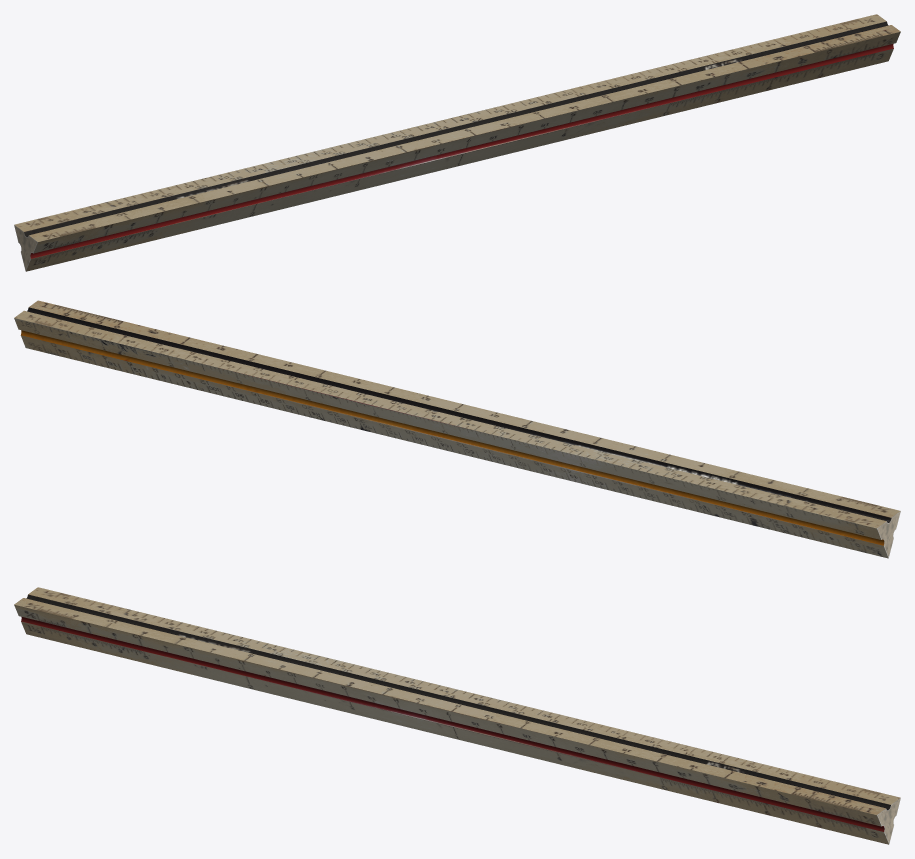
Rendered from Changchi.obj.
3 renders of one model, top to bottom at view 1: azimuth 30°, elevation 25°; view 2: azimuth 150°, elevation 25°; view 3: azimuth 330°, elevation 25°, orthographic.
Parts seen in each view (by area): view 1: Cylinder001; view 2: Cylinder001; view 3: Cylinder001.
Part boxes in pixels (box(x1,y1,x2,y2)): Cylinder001: box(14, 14, 900, 271); Cylinder001: box(14, 300, 900, 558); Cylinder001: box(14, 587, 900, 844).
Bounding box in the file's own units: 186 × 7.96 × 8.97.
1 material, 1 textured.
